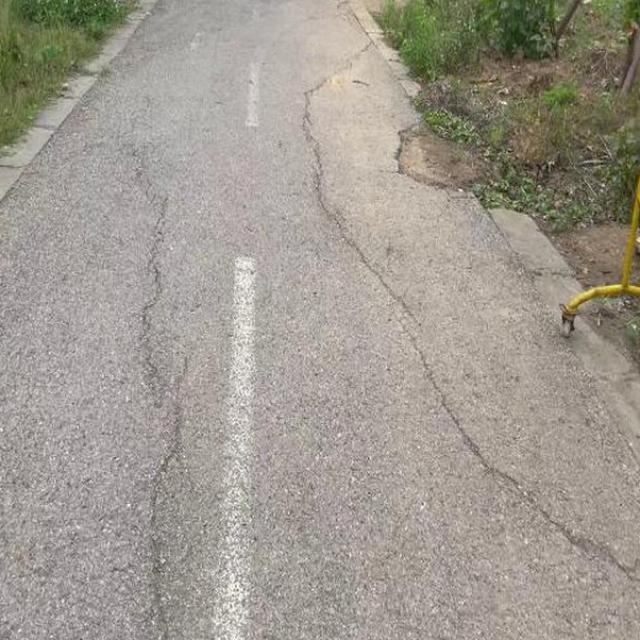Memanjang: (292, 89, 640, 605), (130, 159, 193, 640)
